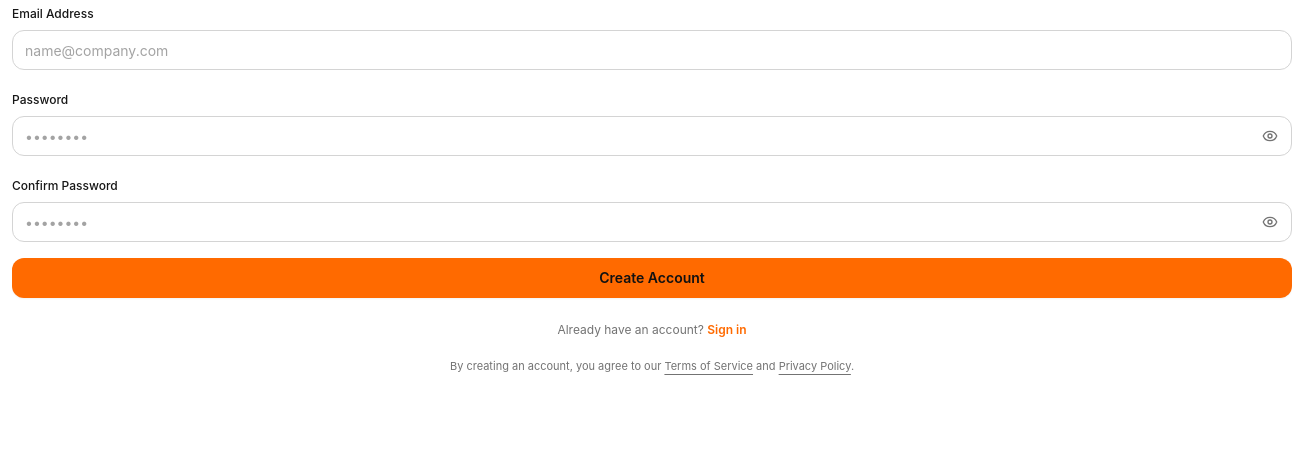
it: RegisterForm › displays server error banner when registration fails
This screenshot has width=1304, height=454.
Type "sam@taskflow.dev" into the field labelled "Email Address". click: (652, 50)
box: [12,30,1292,70]
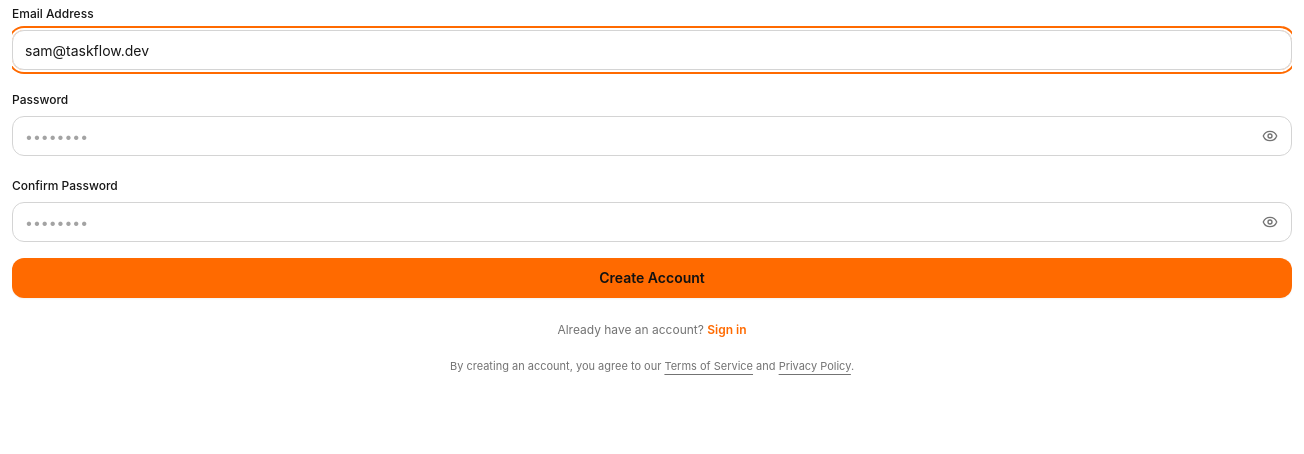
Type "password123" into the password field labelled "Password". click: (652, 136)
box: [12,116,1292,156]
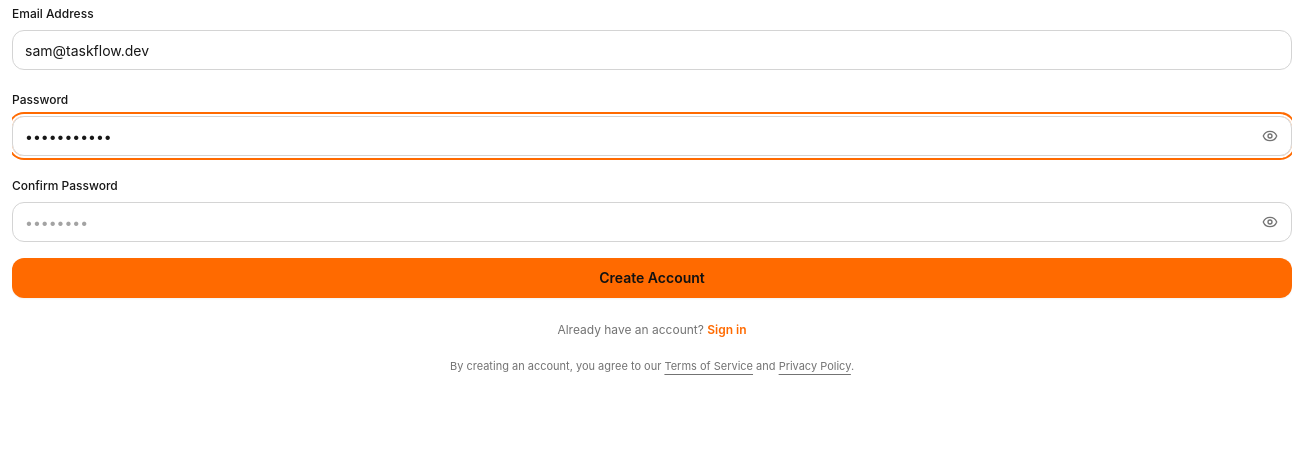
Type "password123" into the password field labelled "Confirm Password". click: (652, 222)
box: [12,202,1292,242]
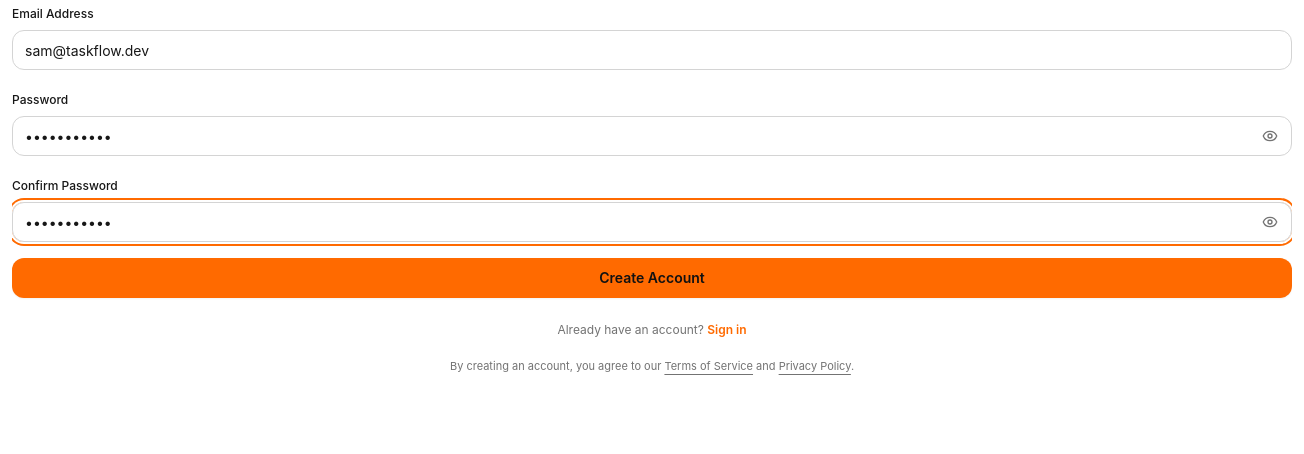
Click the button "Create Account". click: (652, 278)
box: [12,258,1292,298]
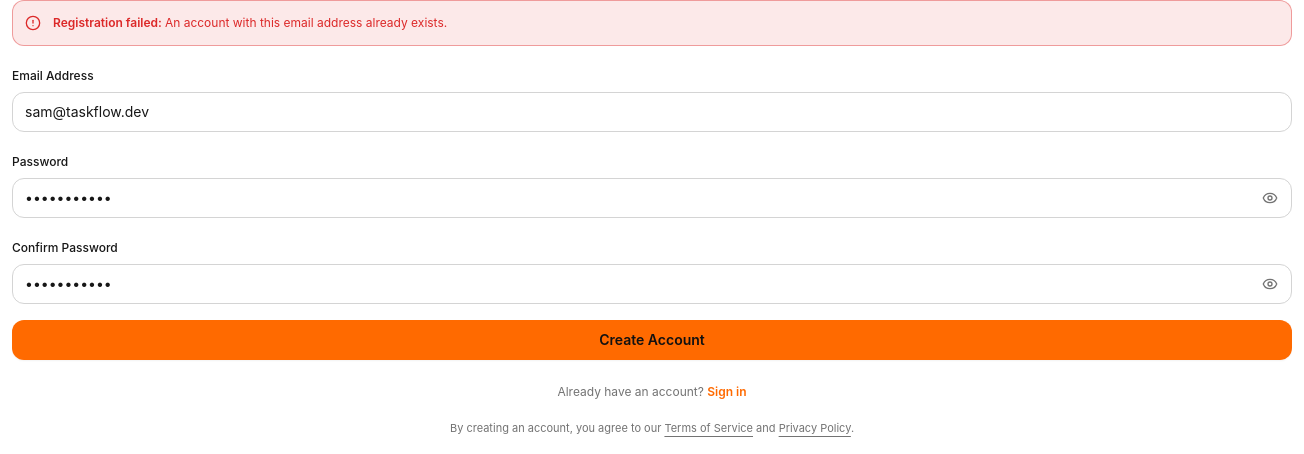
Expected: the message shows "An account with this email address already exists.", [165,15,447,30]
